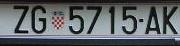-: (139, 17, 146, 24)
1: (107, 6, 116, 35)
5: (121, 5, 138, 35), (68, 5, 84, 34)
7: (86, 5, 102, 36)
A: (146, 6, 162, 34)
G: (31, 5, 46, 34)
K: (163, 6, 179, 34)
Z: (13, 5, 29, 34)
